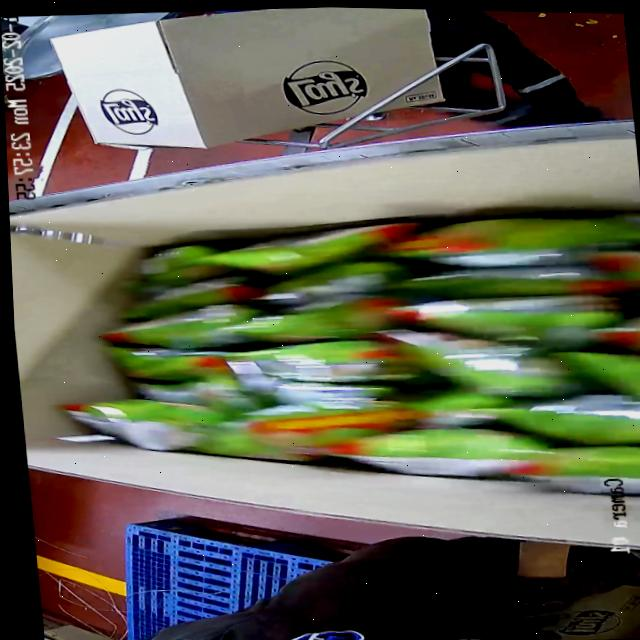YOGURT_HERB: (82, 201, 640, 508)
